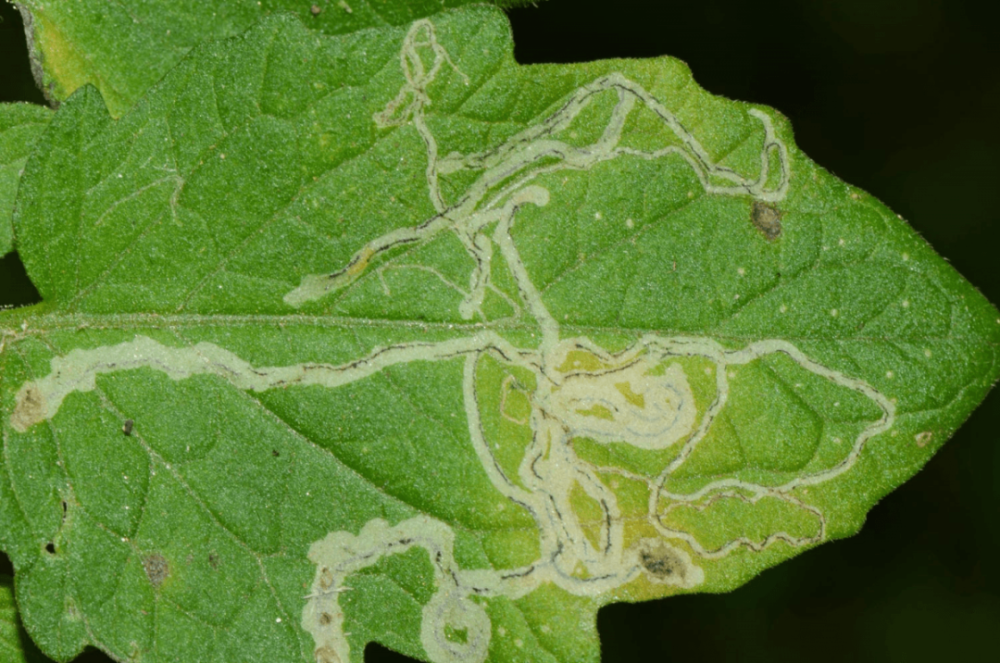liriomyza: (10, 19, 900, 663)
